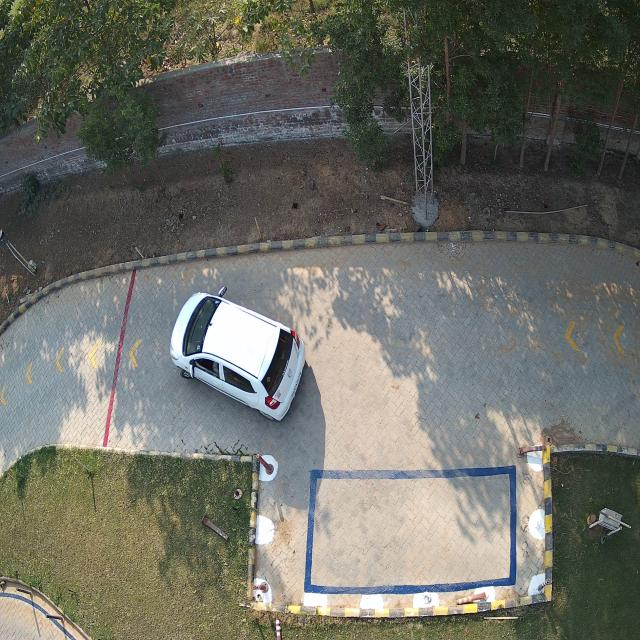car: (170, 287, 305, 420)
